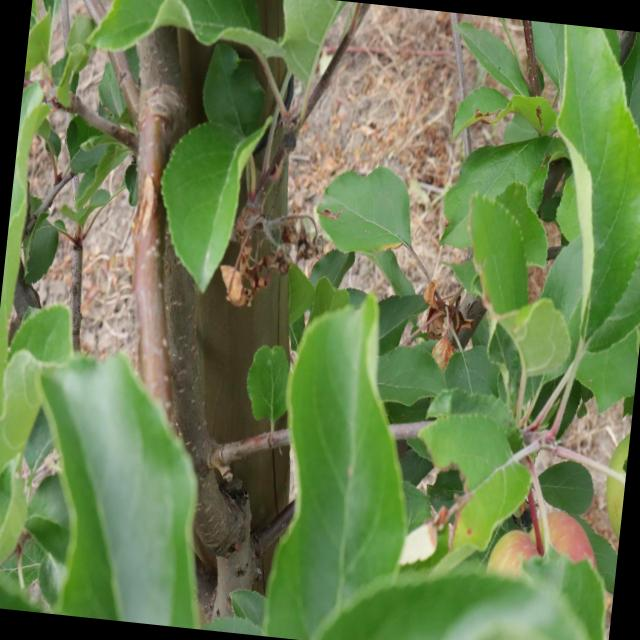-FireBlight-: (214, 199, 328, 313), (397, 271, 488, 367)
